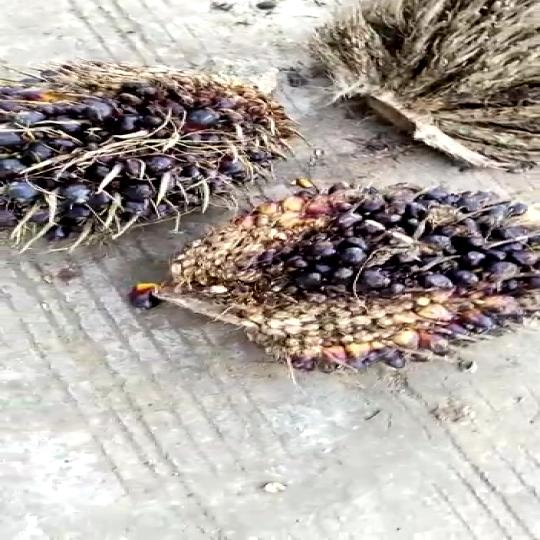mentah: (152, 181, 540, 388), (0, 56, 301, 235)
